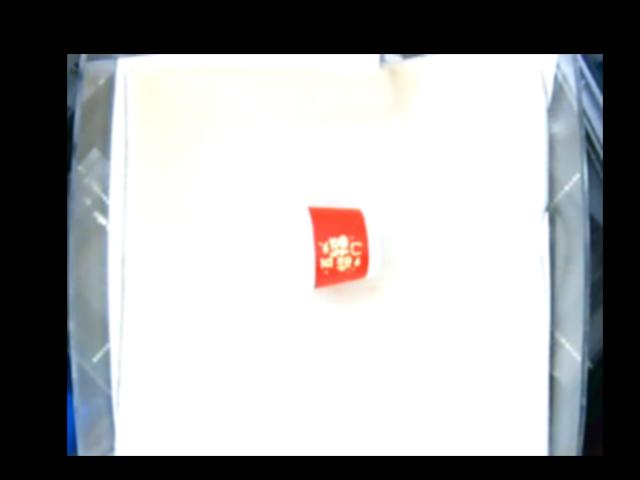Cup: (285, 203, 383, 290)
